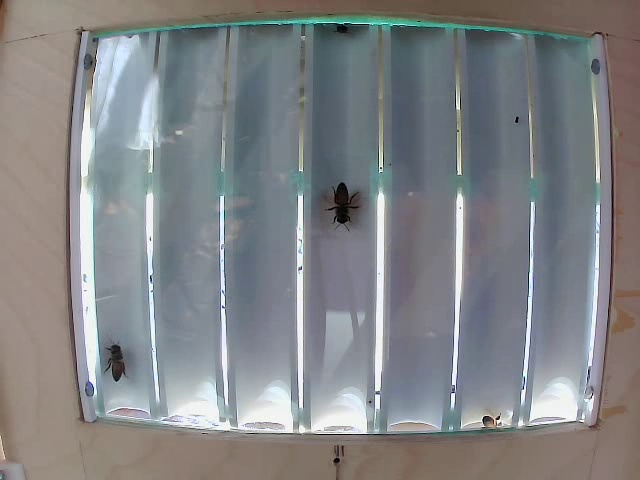bee: (326, 179, 362, 243), (106, 335, 138, 386)
